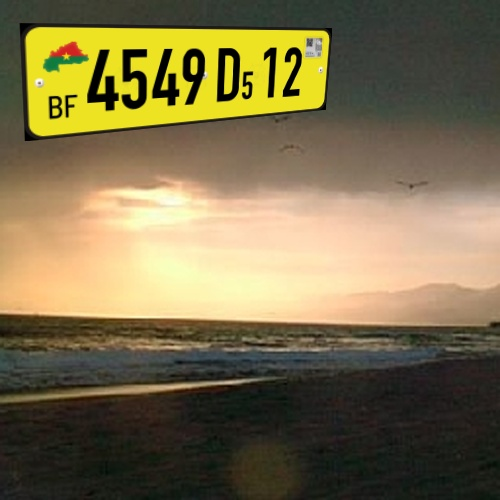plate: (14, 12, 346, 152)
